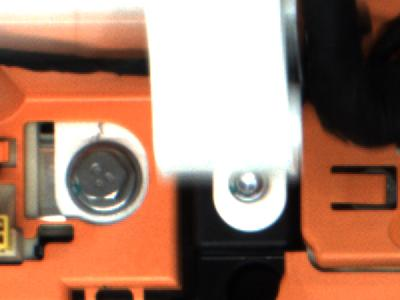nut_b: (61, 141, 143, 219)
